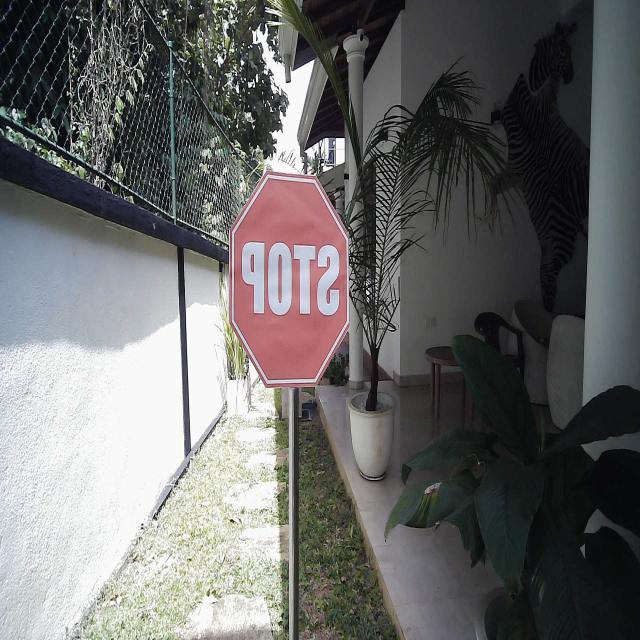stop: (226, 167, 352, 390)
